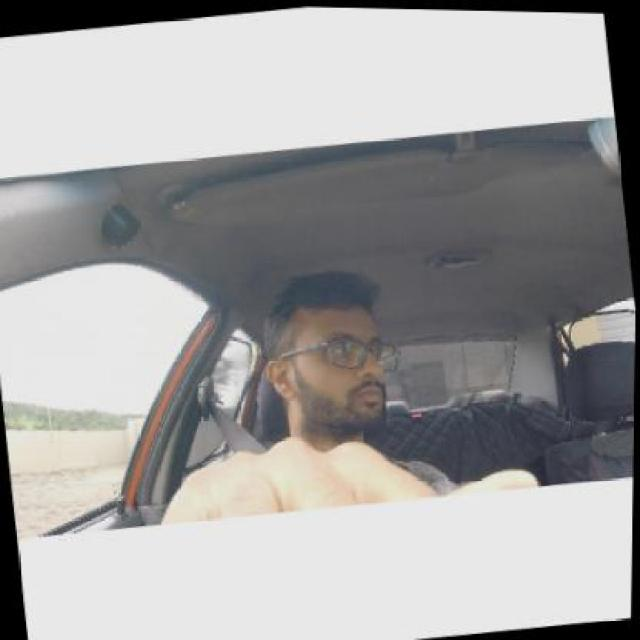LeftRight: (243, 253, 418, 473)
